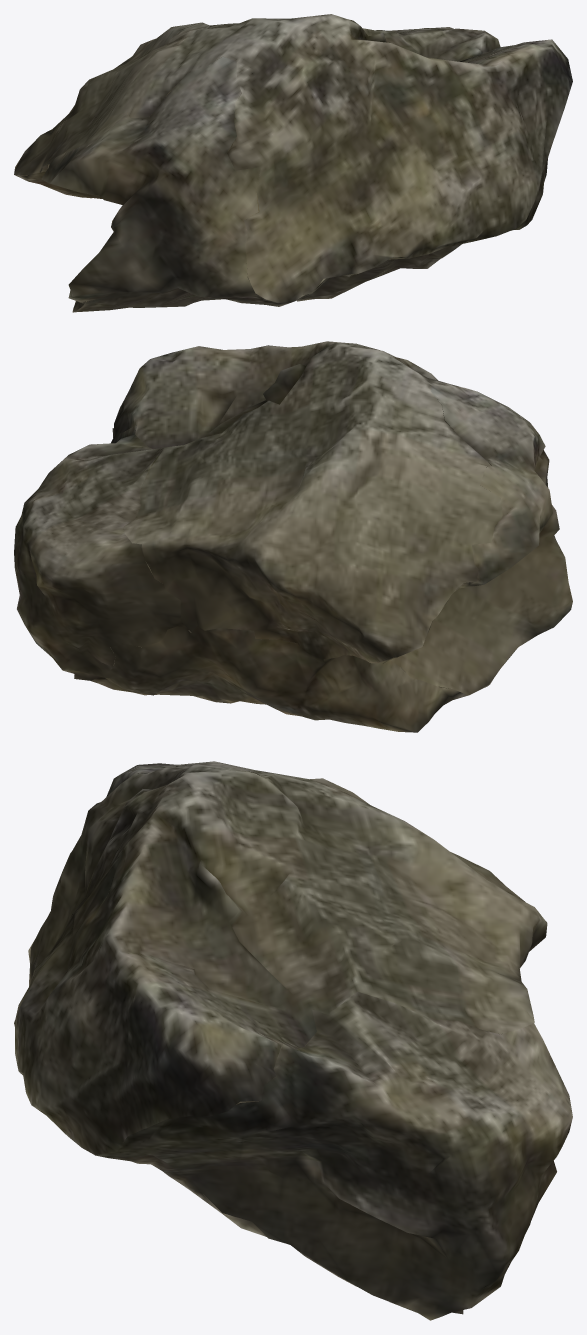
File: rock_moss_set_02_rock11.glb
The picture shows the model from 3 angles, top to bottom: view 1: azimuth 30°, elevation 25°; view 2: azimuth 150°, elevation 25°; view 3: azimuth 270°, elevation 25°; orthographic projection. The views are drawn at different scales.
Visible parts, largest first — view 1: rock_moss_set_02_rock11; view 2: rock_moss_set_02_rock11; view 3: rock_moss_set_02_rock11.
Boxes of the visible parts, x1=… form: rock_moss_set_02_rock11: x1=14, y1=14, x2=572, y2=312; rock_moss_set_02_rock11: x1=14, y1=341, x2=572, y2=732; rock_moss_set_02_rock11: x1=14, y1=761, x2=572, y2=1320.
Bounding box in the file's own units: 1.95 × 1.3 × 1.53.
Materials: 1 (1 with a texture image).
